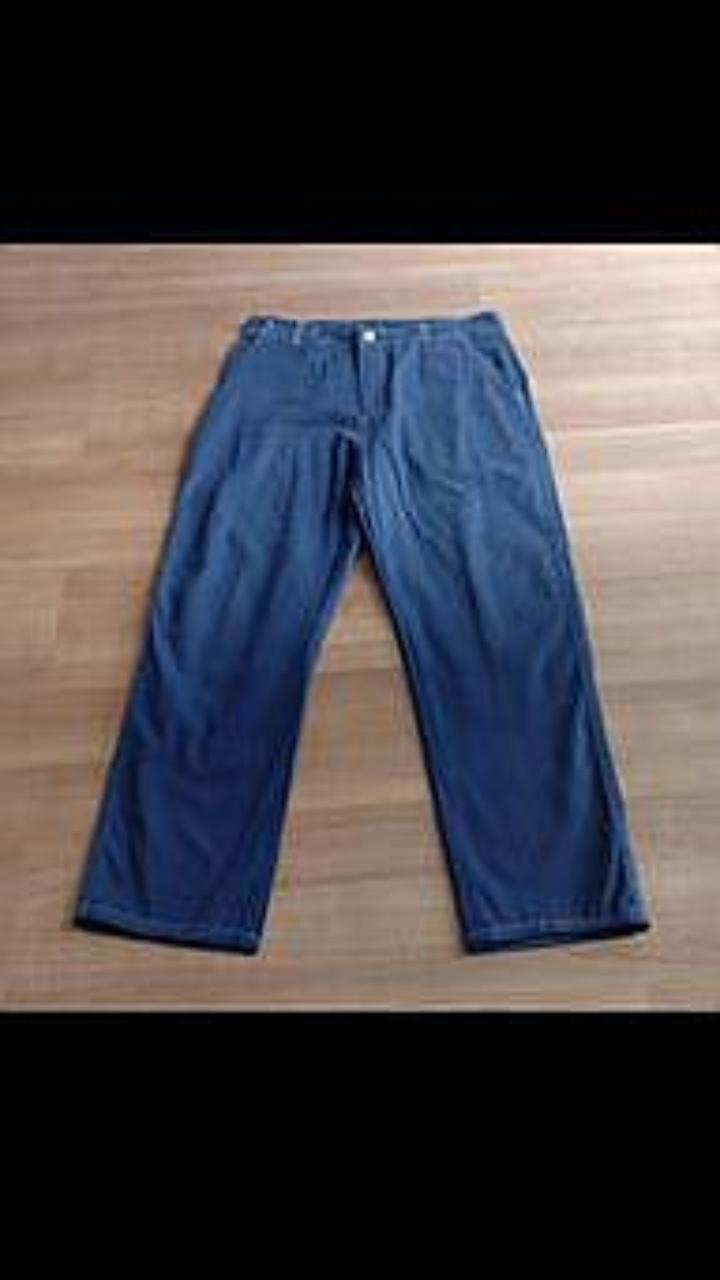Jeans: (76, 312, 647, 951)
